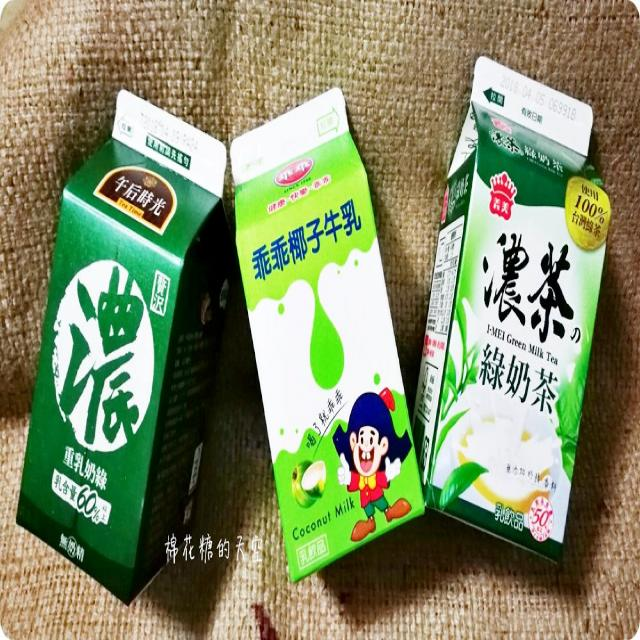non_white_jug: (0, 55, 239, 626), (408, 34, 629, 593), (212, 61, 433, 599)
